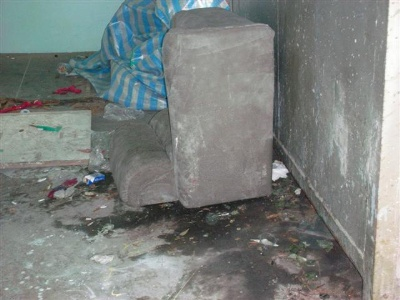plastic_bag: (94, 1, 169, 110)
